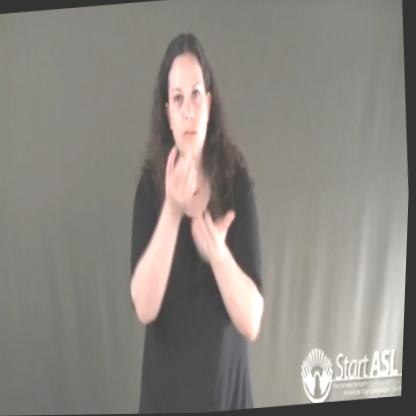HowAreYou: (159, 135, 239, 269)
